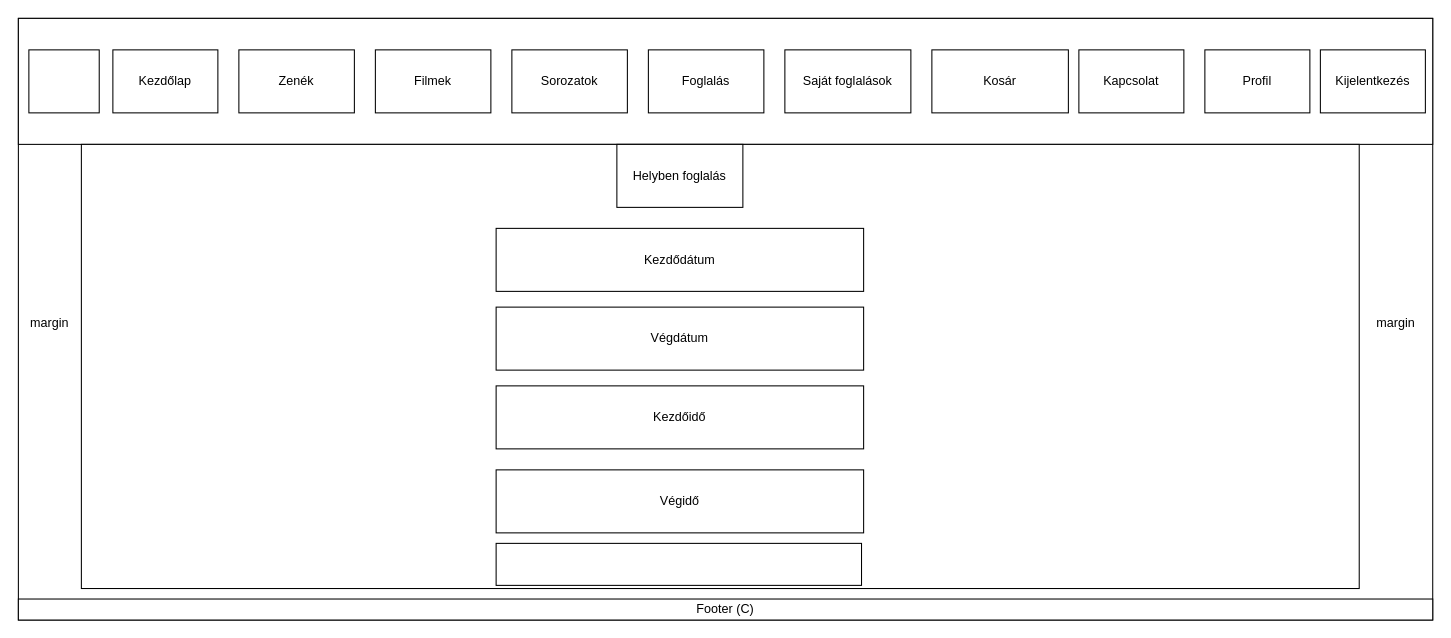
This 1451x638 diagram has some shape labels left out. The centre of each missing label's shape, as x and y in pixels:
"Foglalás leadása" goes at pixel 678 563.
"Logo (opcionális)" goes at pixel 63 81.
